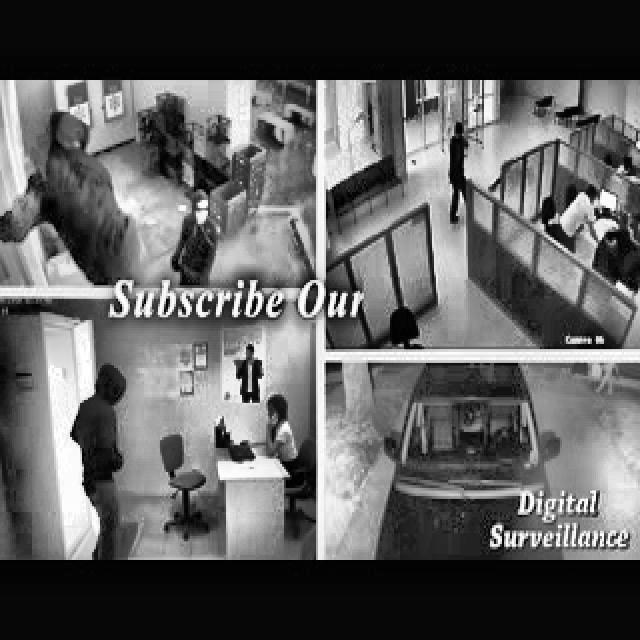robbery: (68, 360, 130, 559)
